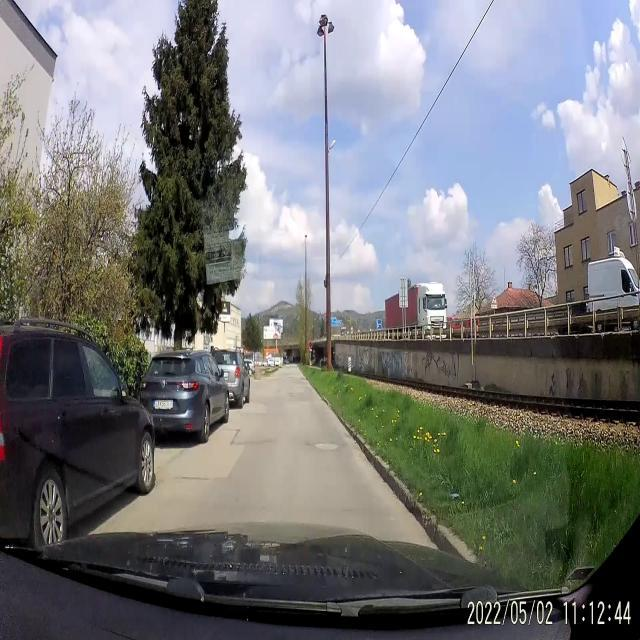Pothole: (310, 436, 342, 456), (286, 390, 294, 400), (283, 374, 294, 381), (298, 376, 308, 382)
